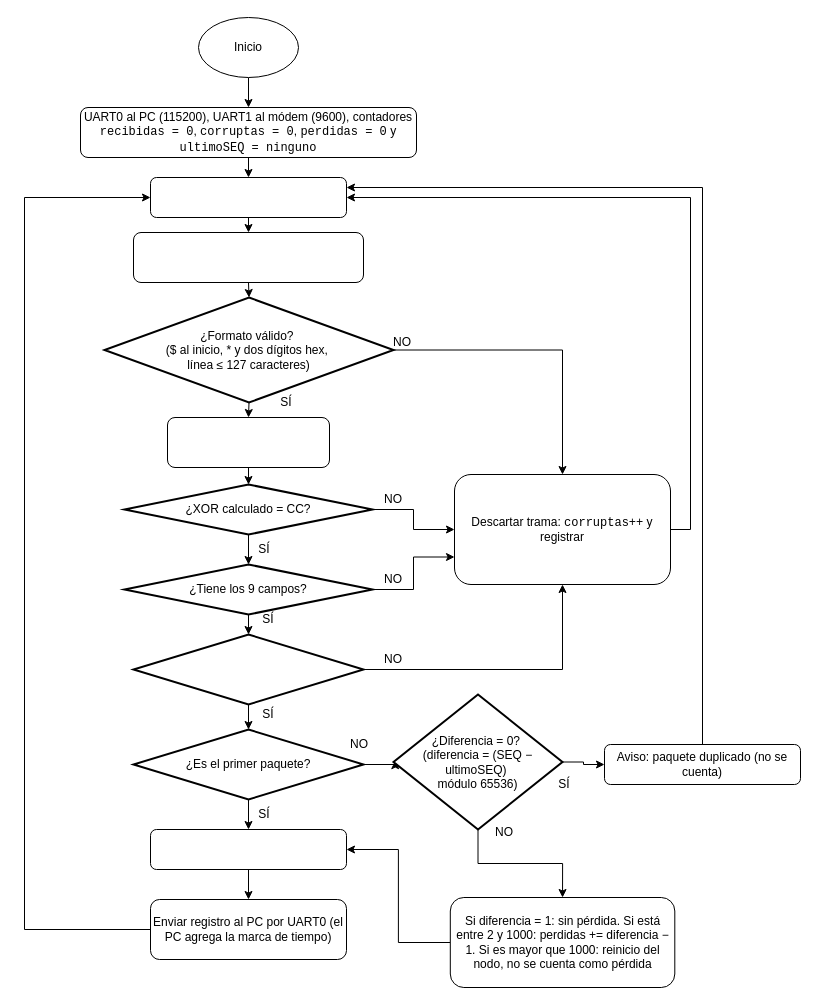
The diagram is 818 pixels wide and 1005 high, and some of its shapes have lost their labels. Each missing label, with the centre of its shape:
"Esperar una línea por UART1 hasta el salto de línea" goes at pixel 248 197.
"Separar el contenido y CC, y recalcular el XOR" goes at pixel 248 442.
"Si el RSSI está activo, leer 1 byte adicional y calcular RSSI = −(255 − byte)" goes at pixel 248 257.
"ultimoSEQ = SEQ y recibidas++" goes at pixel 248 849.
"¿Valores en rango o -999?" goes at pixel 248 669.
